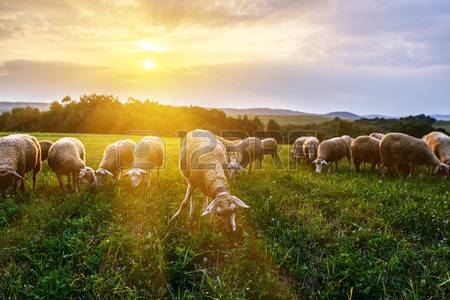sheep: (173, 129, 250, 237), (379, 130, 450, 186), (1, 126, 43, 206), (44, 134, 97, 188), (130, 130, 166, 192), (219, 131, 266, 167), (98, 136, 130, 188), (315, 135, 349, 172), (350, 133, 382, 172), (292, 132, 316, 167), (260, 132, 280, 158)
